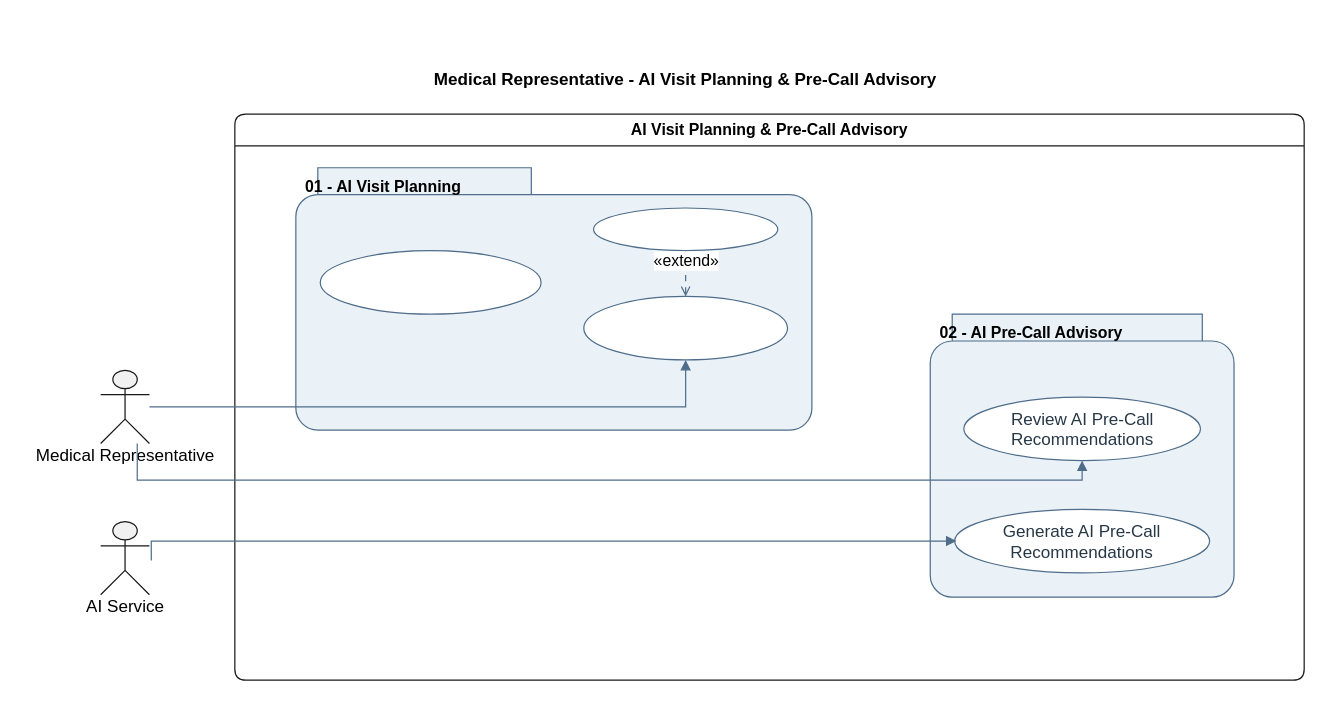
This 1326x702 diagram has some shape labels left out. The shapes that lost their labels are listed below. From the top down, each one's box as (x1, y1, x2, y2) in pixels, then its label:
(592, 207, 778, 251): Modify Visit Plan
(319, 249, 541, 314): Generate Monthly Visit Plan
(583, 295, 788, 360): Review Monthly Visit Plan
